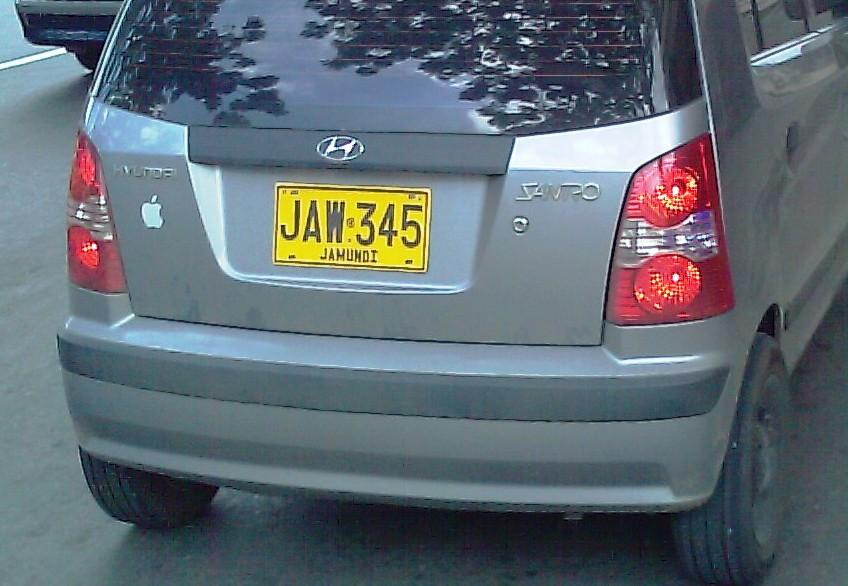placas: (270, 180, 434, 276)
